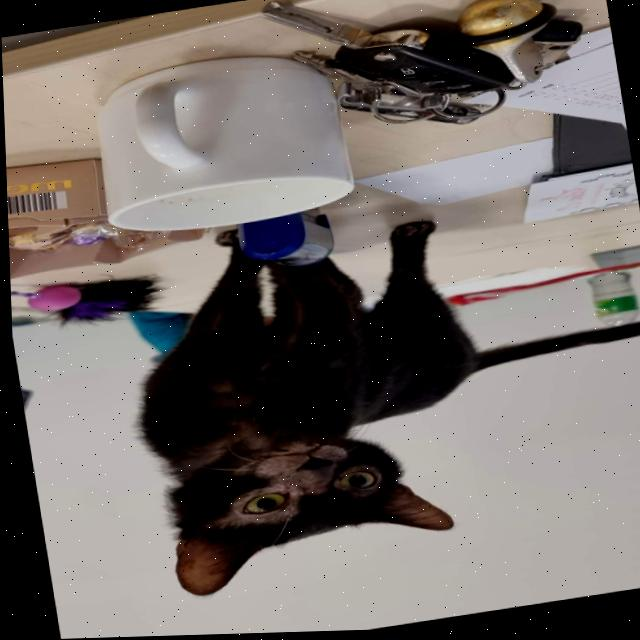Lykoi: (97, 169, 640, 608)
